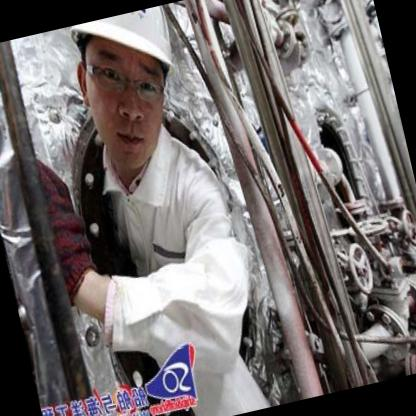helmet: (59, 5, 206, 190)
